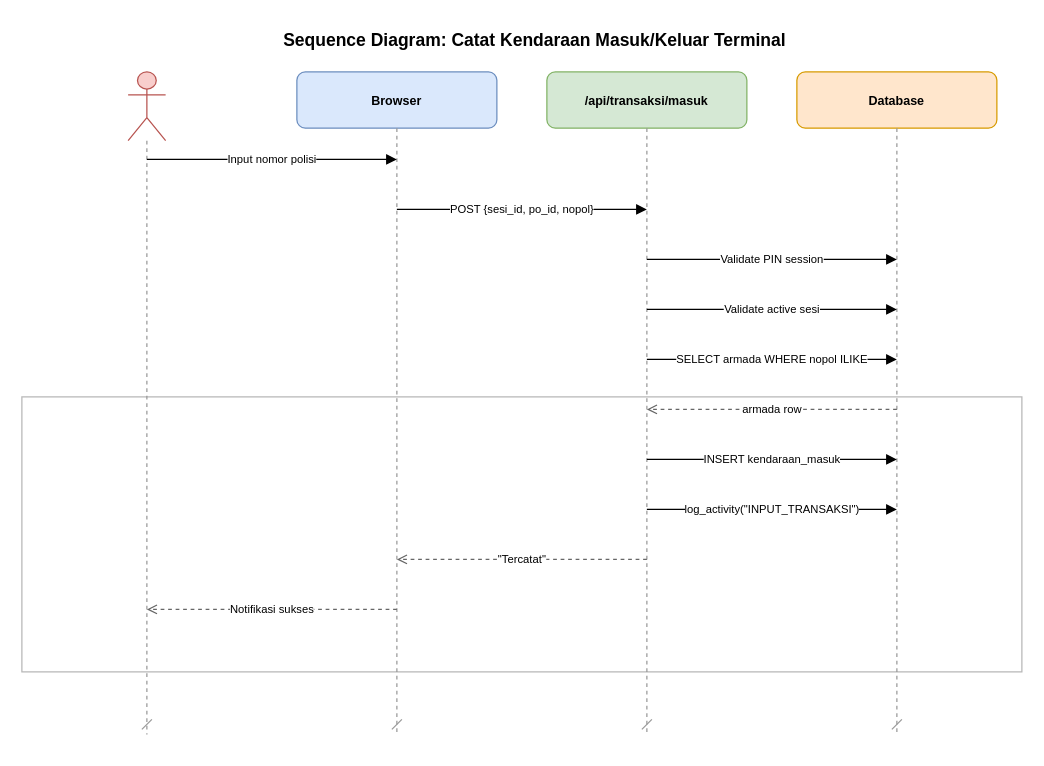
Image size: 1044x766. Some labels were removed from this diagram. The centre of each missing label's shape, as x and y in pixels:
alt: Armada valid & terverifikasi: (521,534)
Petugas Loket: (146,106)
